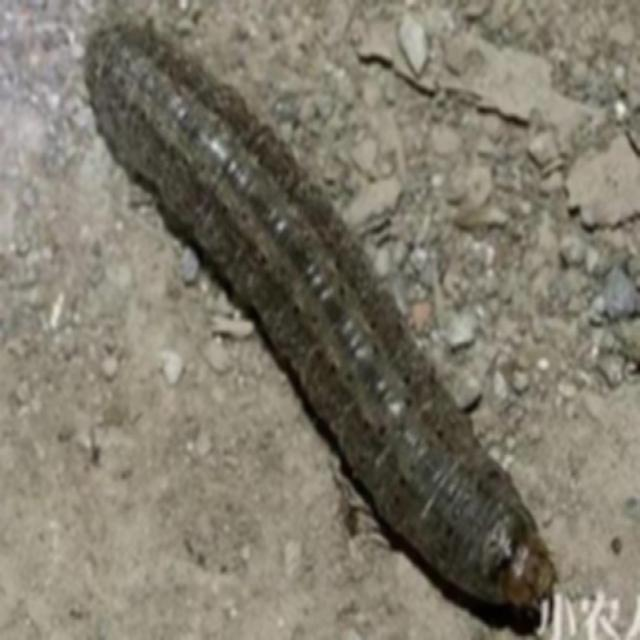black cutworm: (84, 16, 574, 627)
